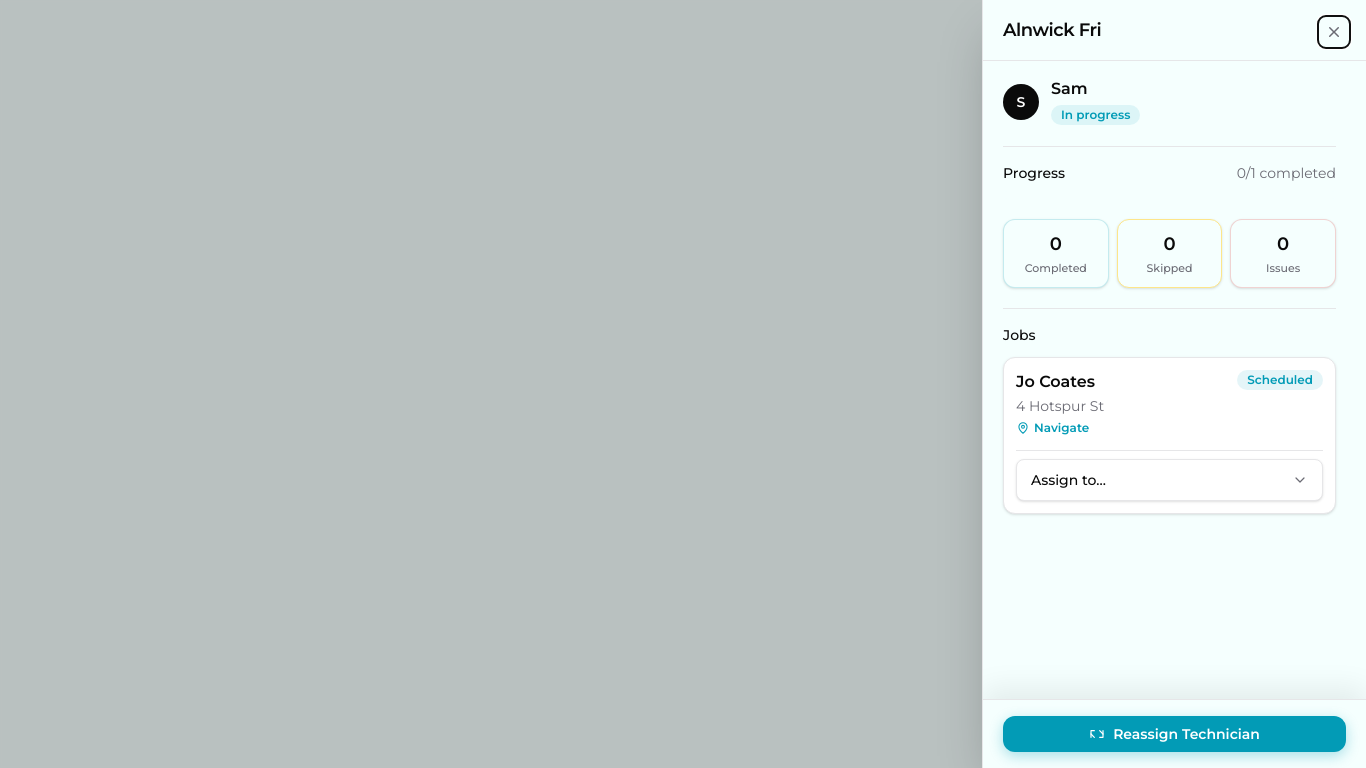
it: single-visit assign (Today’s Work) › assigns, then unassigns a scheduled visit
This screenshot has width=1366, height=768.
Click the button with aria-label "Assign this visit". click: (1069, 480)
box: [1016,458,1323,500]
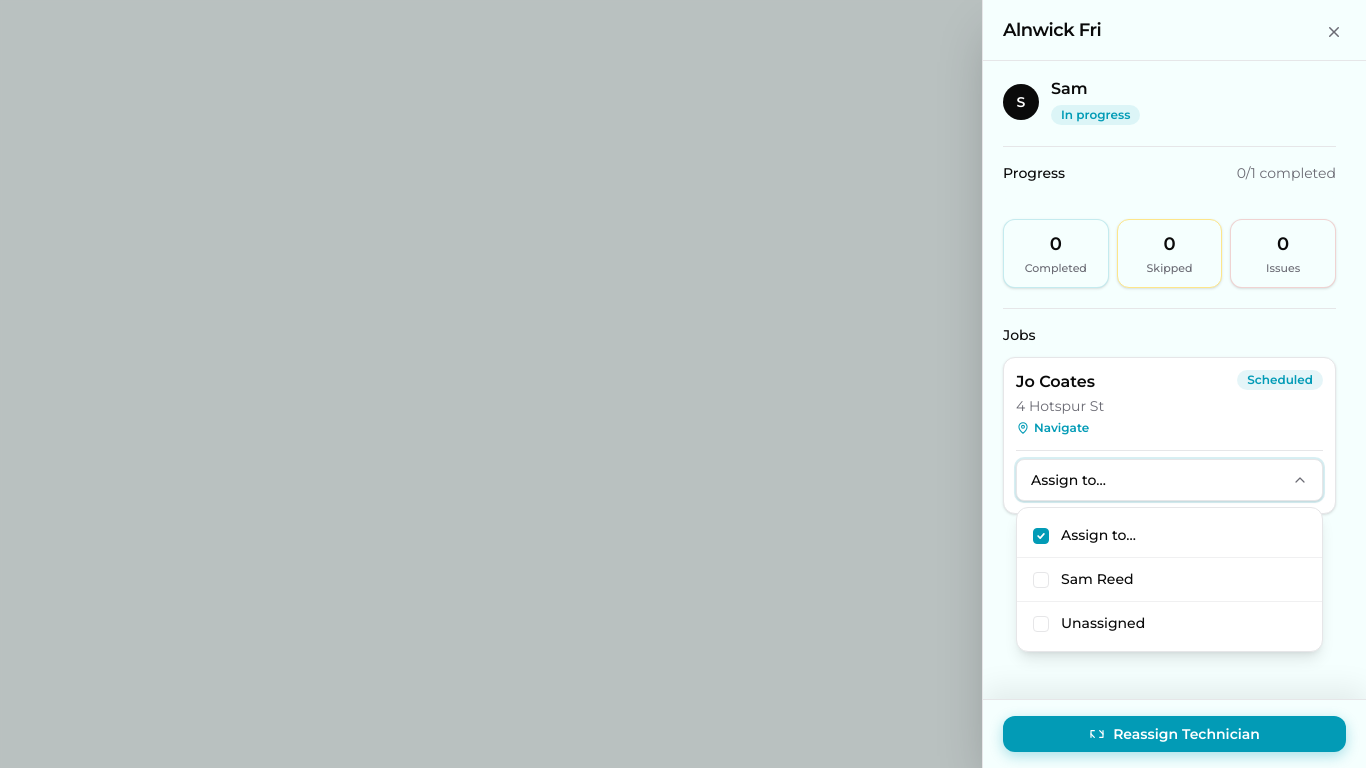
Click the option "Sam Reed". click: (1097, 579)
box: [1017,558,1322,602]
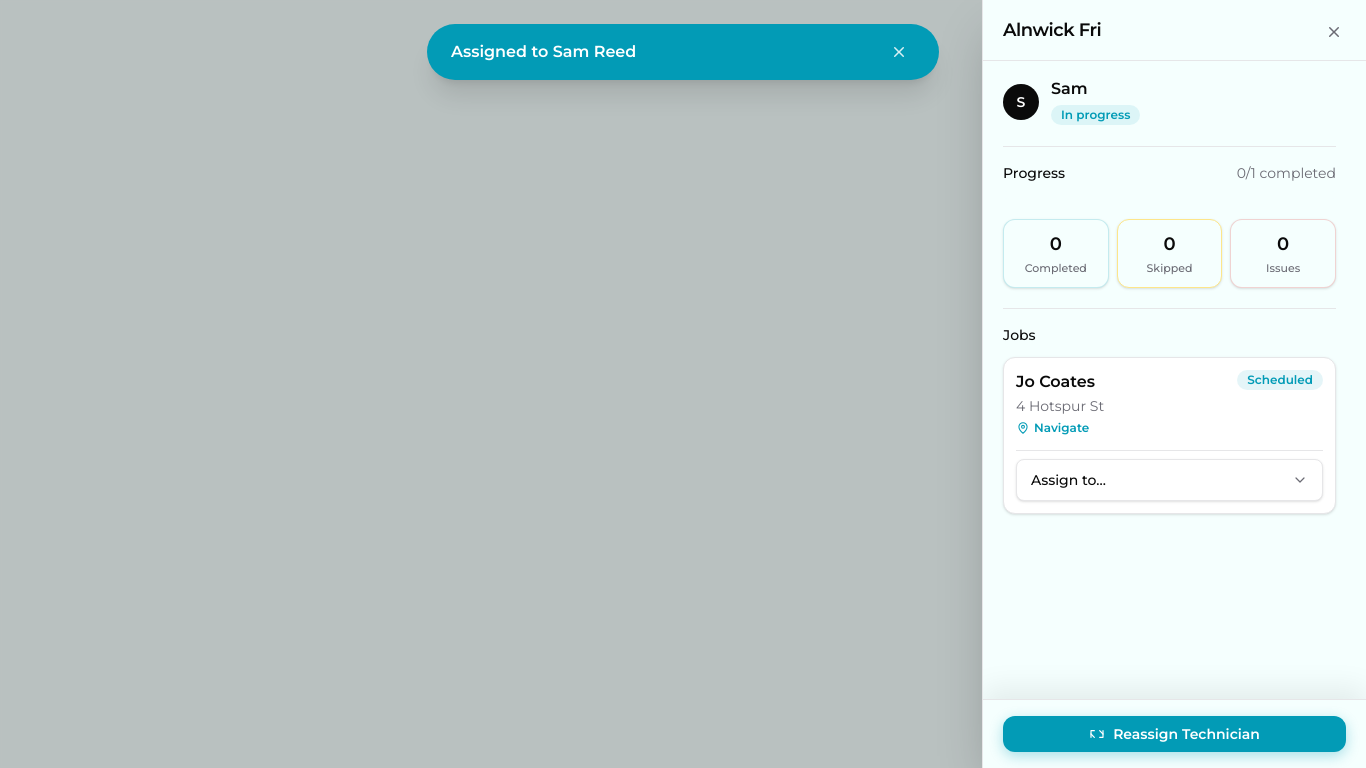
Expected: the text "Assigned to Sam Reed" is shown, [451,40,636,64]
Click the button with aria-label "Assign this visit". click: (1069, 480)
box: [1016,458,1323,500]
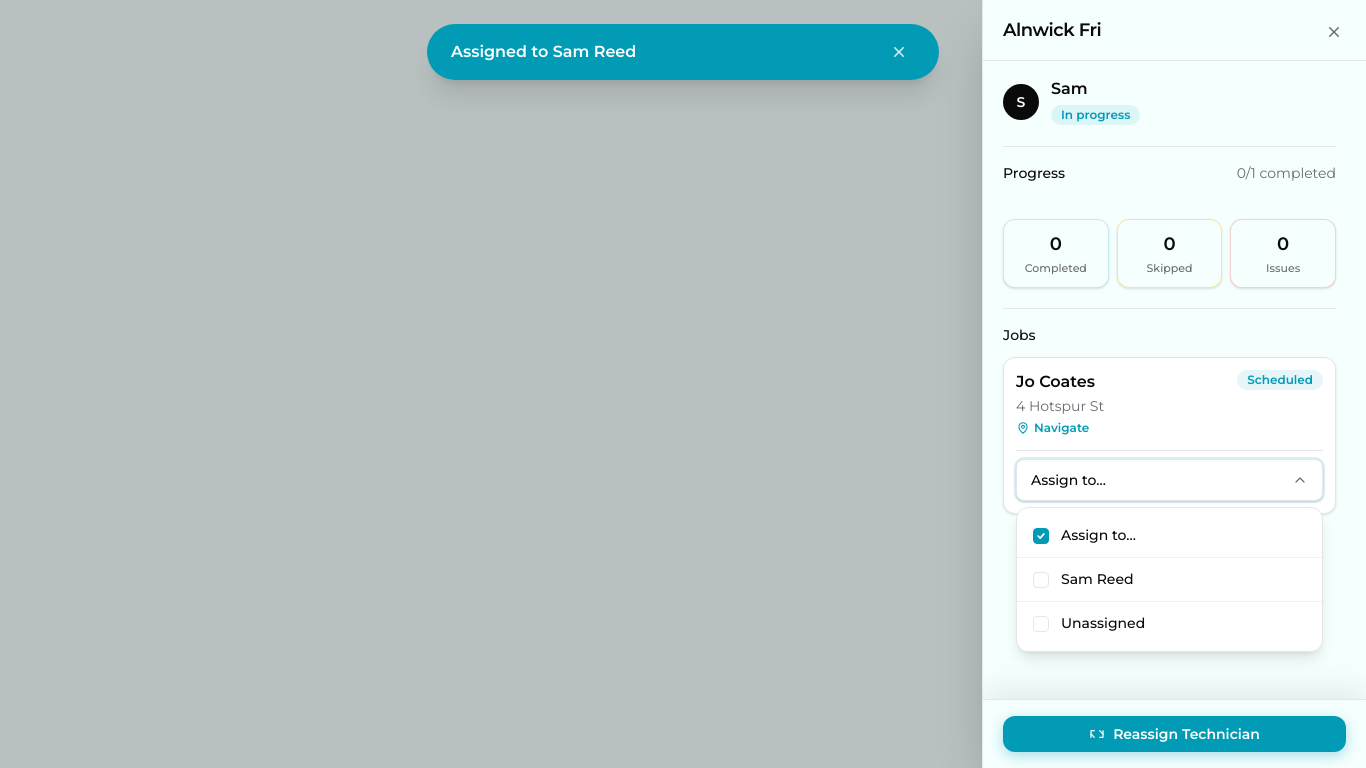
Click the option "Unassigned". click: (1103, 623)
box: [1017,602,1322,645]
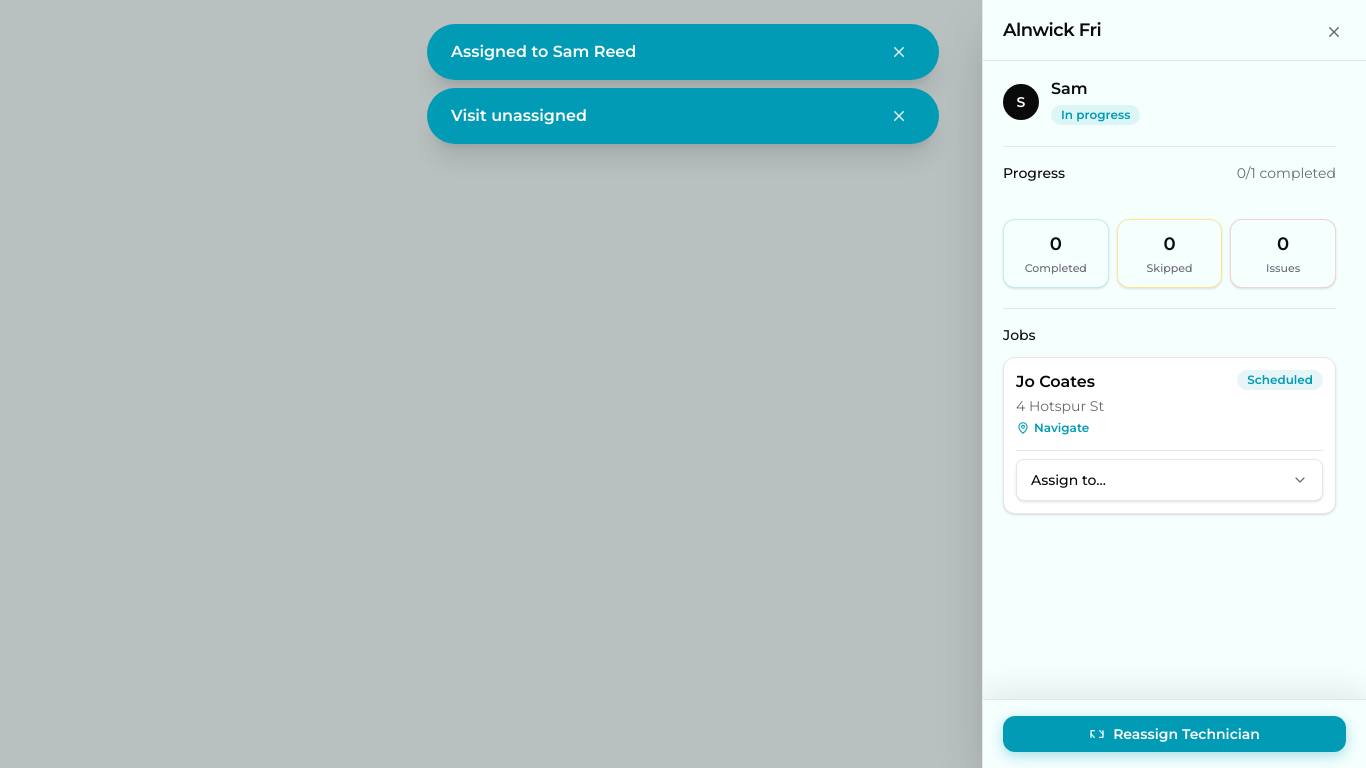
Expected: the text "Visit unassigned" is shown, [451,104,587,128]
